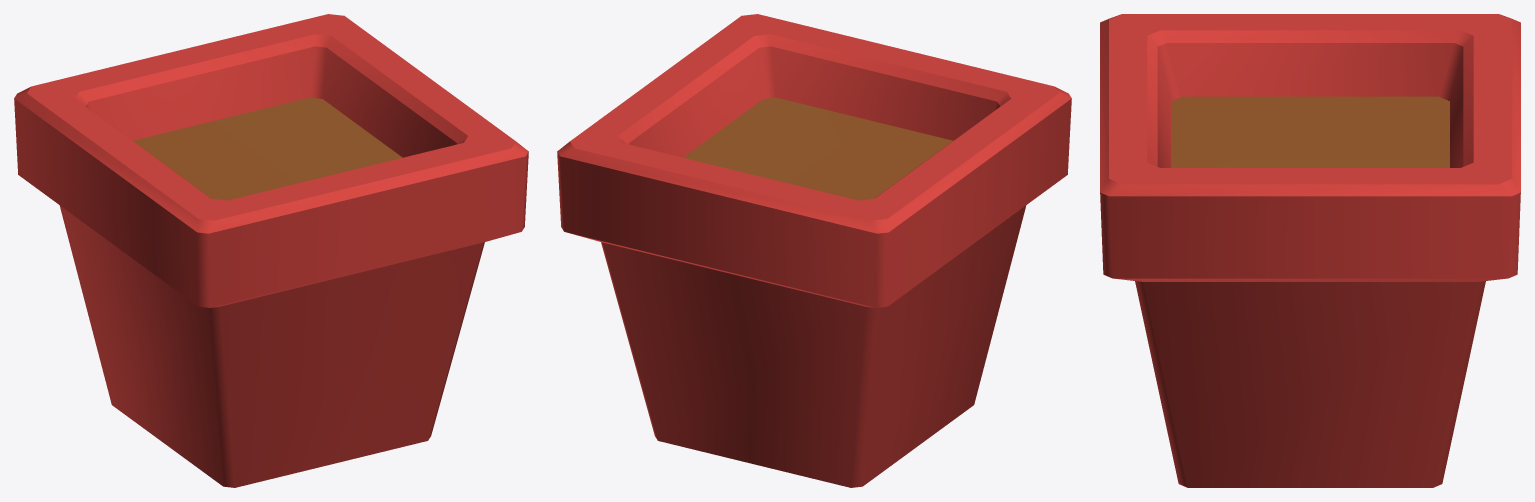
File: PlantPot_1_F.fbx
3 renders of one model, left to right at view 1: azimuth 30°, elevation 25°; view 2: azimuth 150°, elevation 25°; view 3: azimuth 270°, elevation 25°, orthographic. The views are drawn at different scales.
Visible parts, largest first — view 1: PlantPot_1_F; view 2: PlantPot_1_F; view 3: PlantPot_1_F.
Boxes of the visible parts, box(x1,y1,x2,y2) form: PlantPot_1_F: box(14, 14, 528, 487); PlantPot_1_F: box(557, 14, 1071, 487); PlantPot_1_F: box(1100, 14, 1520, 487).
Bounding box in the file's own units: 27.48 × 24 × 27.48.
